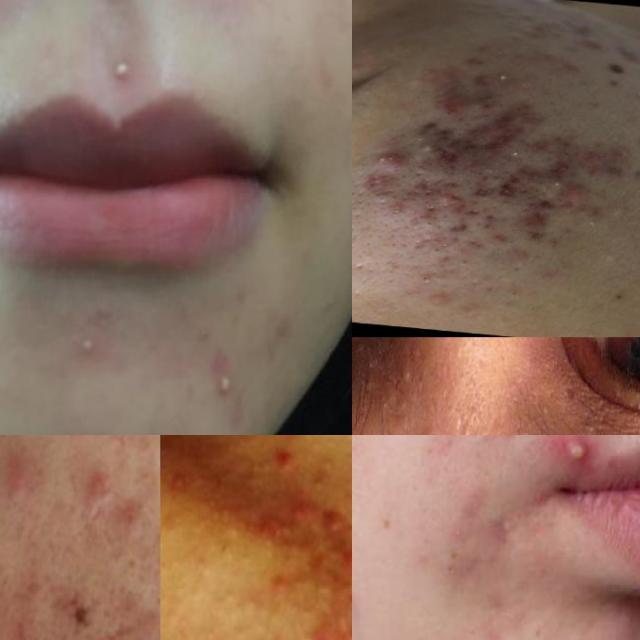acne_scars: (480, 490, 522, 570), (43, 585, 103, 635), (458, 610, 525, 640), (96, 610, 148, 640)
comedone: (217, 572, 250, 612), (398, 348, 421, 400), (574, 143, 608, 168), (400, 266, 438, 286), (532, 65, 562, 90), (592, 245, 620, 269), (496, 276, 522, 300), (352, 337, 374, 363), (606, 197, 628, 220), (365, 187, 393, 205), (423, 240, 446, 259), (447, 256, 476, 268)
flat_wart: (412, 424, 453, 435)
papule: (0, 435, 51, 507), (75, 451, 120, 519), (270, 435, 309, 483), (322, 531, 352, 590), (284, 481, 318, 529)
pustule: (102, 42, 146, 98), (549, 435, 603, 476), (212, 356, 238, 409), (74, 334, 100, 382)
sebo-crystan-conglo: (400, 82, 552, 191), (508, 156, 596, 207), (372, 146, 410, 176)
